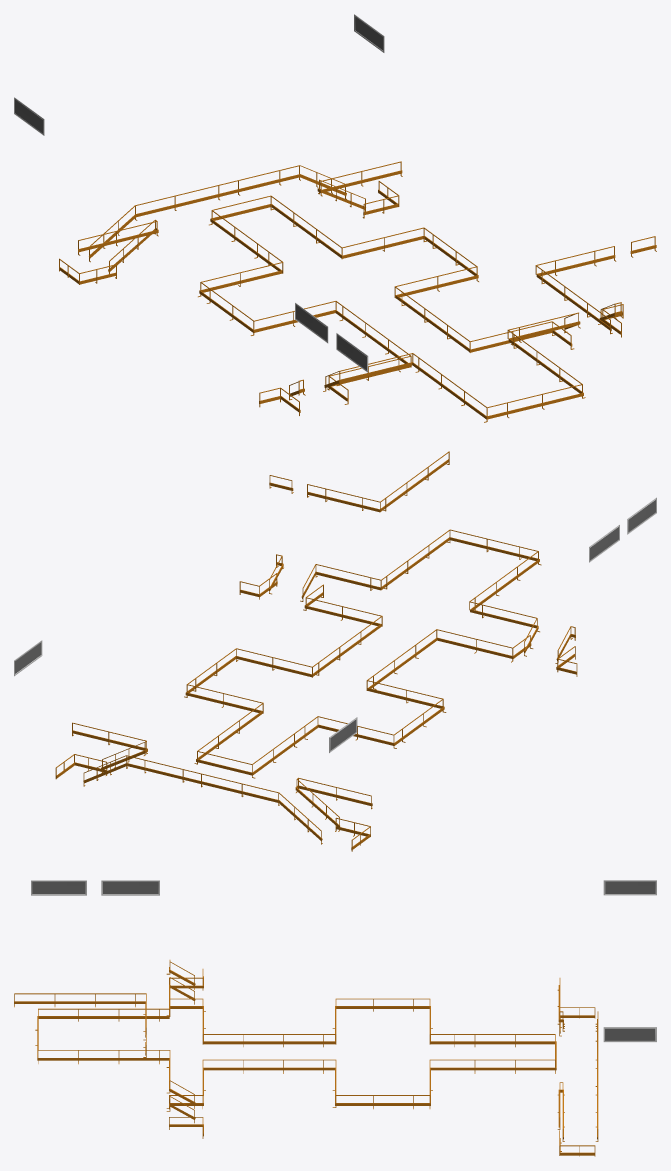
Rendered from SM_H_Building_Tide_WaterControl_10_ATLAS.fbx.
3 views of the same model, one above another, from view 1: azimuth 30°, elevation 25°; view 2: azimuth 150°, elevation 25°; view 3: azimuth 270°, elevation 25° (orthographic). The views are drawn at different scales.
Parts seen in each view (by area): view 1: SM_H_Building_Tide_WaterControl_10_ATLAS; view 2: SM_H_Building_Tide_WaterControl_10_ATLAS; view 3: SM_H_Building_Tide_WaterControl_10_ATLAS.
Boxes of the visible parts, x1,y1,x2,y2 form: SM_H_Building_Tide_WaterControl_10_ATLAS: [14, 14, 656, 422]; SM_H_Building_Tide_WaterControl_10_ATLAS: [14, 451, 656, 851]; SM_H_Building_Tide_WaterControl_10_ATLAS: [14, 880, 656, 1156].
Size of the model in its own units: 2853 by 4921 by 1144.
